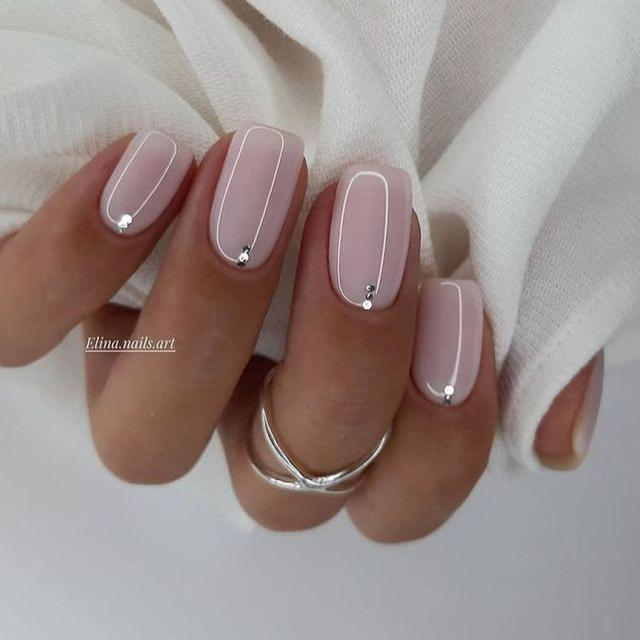Nail: (209, 124, 304, 269), (329, 165, 411, 310), (100, 130, 194, 232), (411, 279, 484, 405), (569, 354, 602, 458)
